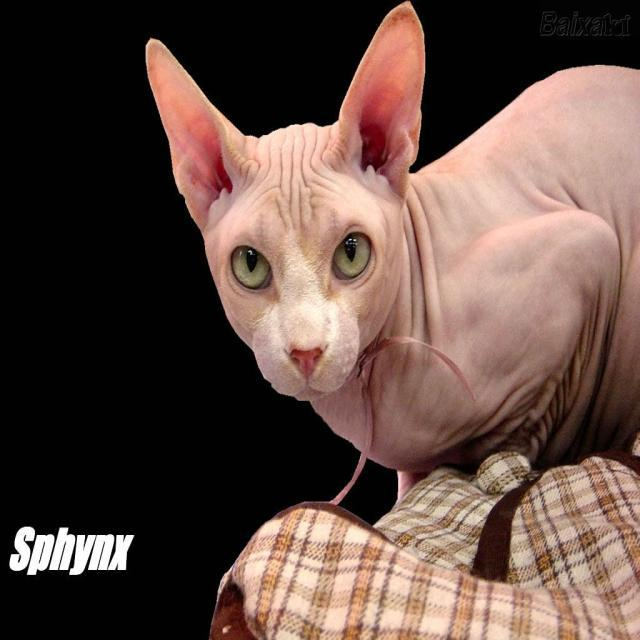Sphynx: (141, 0, 426, 402)
